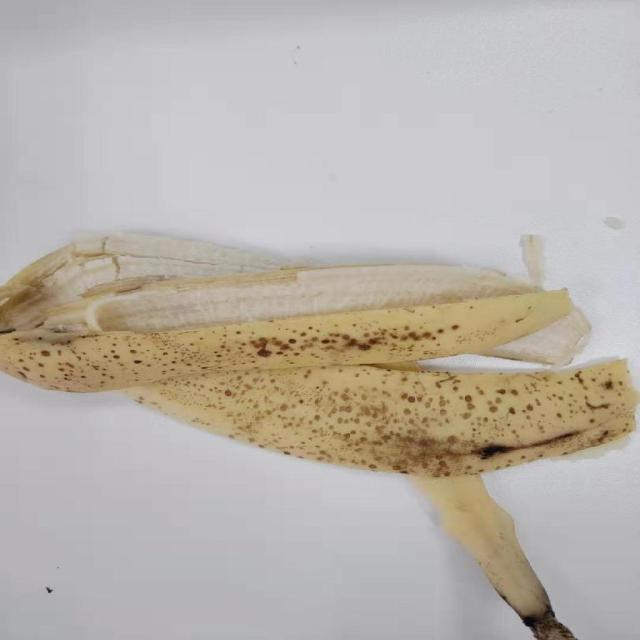-Kitchen waste - fruit-: (1, 231, 632, 640)
